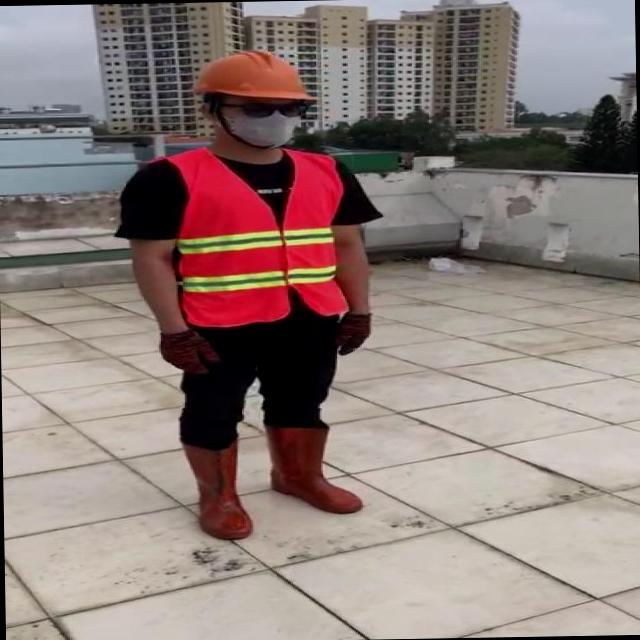boots: (264, 424, 360, 515), (185, 442, 251, 540)
helmet: (192, 45, 321, 104)
vest: (169, 148, 354, 326)
